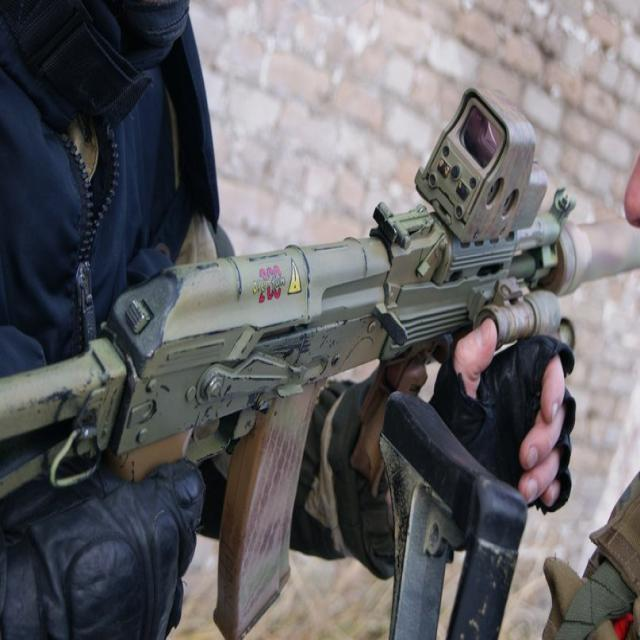firearm: (2, 90, 640, 638)
